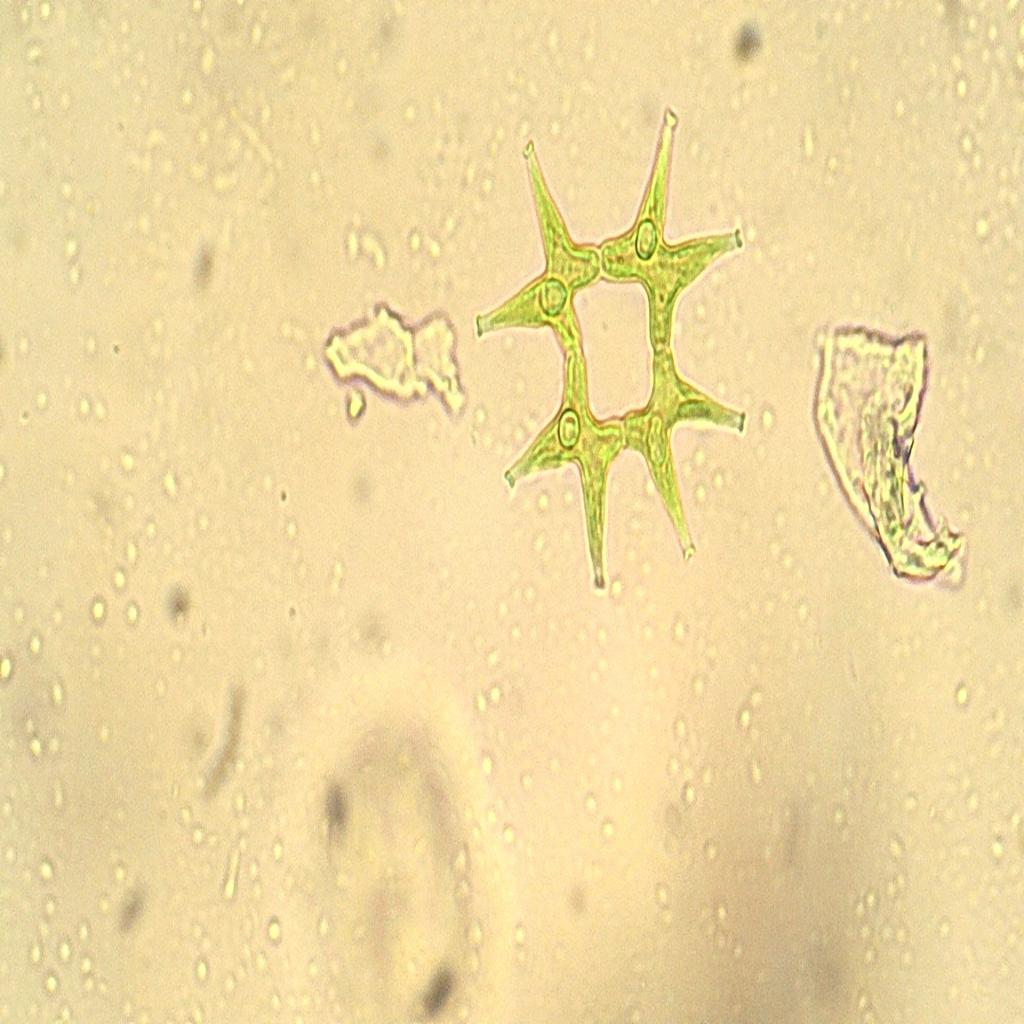Pediastrum_CO: (446, 93, 788, 604)
